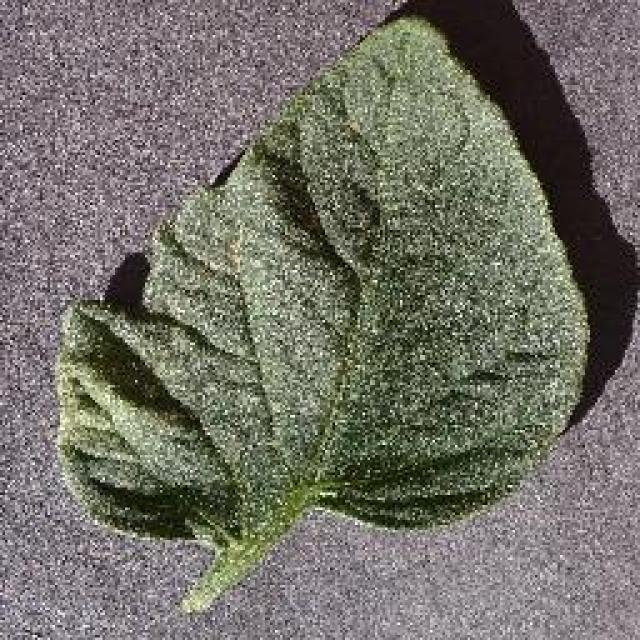Tomato healthy leaf: (56, 16, 584, 599)
